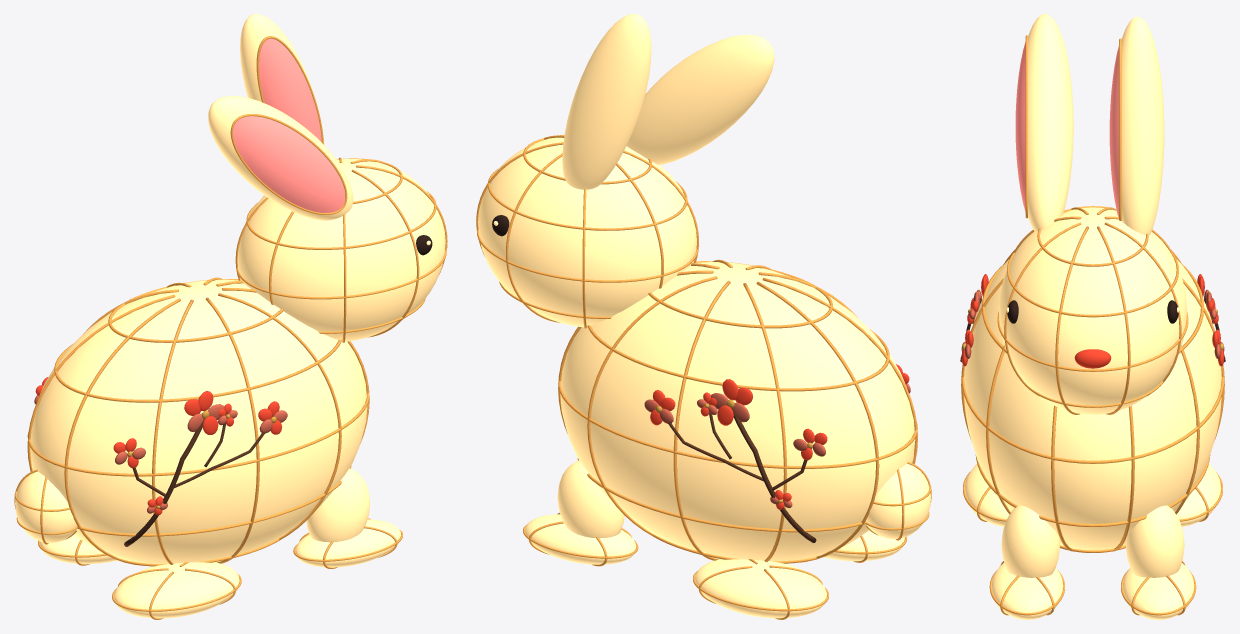
File: mid-autumn-rabbit-lantern.glb
3 views of the same model, side by side, from view 1: azimuth 30°, elevation 25°; view 2: azimuth 150°, elevation 25°; view 3: azimuth 270°, elevation 25° (orthographic). The views are drawn at different scales.
Parts seen in each view (by area): view 1: Warm ivory paper, Honey bamboo ribs, Rose tissue, Vermilion paper, Tea brown ink, Coral blossom highlights; view 2: Warm ivory paper, Honey bamboo ribs, Vermilion paper, Tea brown ink, Coral blossom highlights; view 3: Warm ivory paper, Honey bamboo ribs, Rose tissue, Vermilion paper, Coral blossom highlights, Dark lacquer eye.
Part boxes in pixels (x1=…): Warm ivory paper: x1=15, y1=14, x2=445, y2=618; Honey bamboo ribs: x1=14, y1=36, x2=447, y2=619; Rose tissue: x1=233, y1=38, x2=345, y2=212; Vermilion paper: x1=35, y1=377, x2=281, y2=515; Tea brown ink: x1=124, y1=414, x2=264, y2=546; Coral blossom highlights: x1=34, y1=395, x2=287, y2=513; Warm ivory paper: x1=478, y1=14, x2=930, y2=618; Honey bamboo ribs: x1=476, y1=134, x2=931, y2=619; Vermilion paper: x1=650, y1=364, x2=909, y2=509; Tea brown ink: x1=668, y1=403, x2=816, y2=542; Coral blossom highlights: x1=644, y1=383, x2=910, y2=507; Warm ivory paper: x1=964, y1=14, x2=1221, y2=619; Honey bamboo ribs: x1=961, y1=35, x2=1224, y2=615; Rose tissue: x1=1015, y1=42, x2=1118, y2=216; Vermilion paper: x1=961, y1=274, x2=1224, y2=368; Coral blossom highlights: x1=961, y1=289, x2=1224, y2=359; Dark lacquer eye: x1=1007, y1=300, x2=1178, y2=323.
Bounding box in the file's own units: 0.6314 × 0.7439 × 0.3156.
